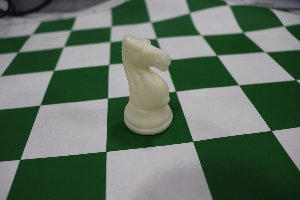white_horse: (108, 21, 177, 142)
